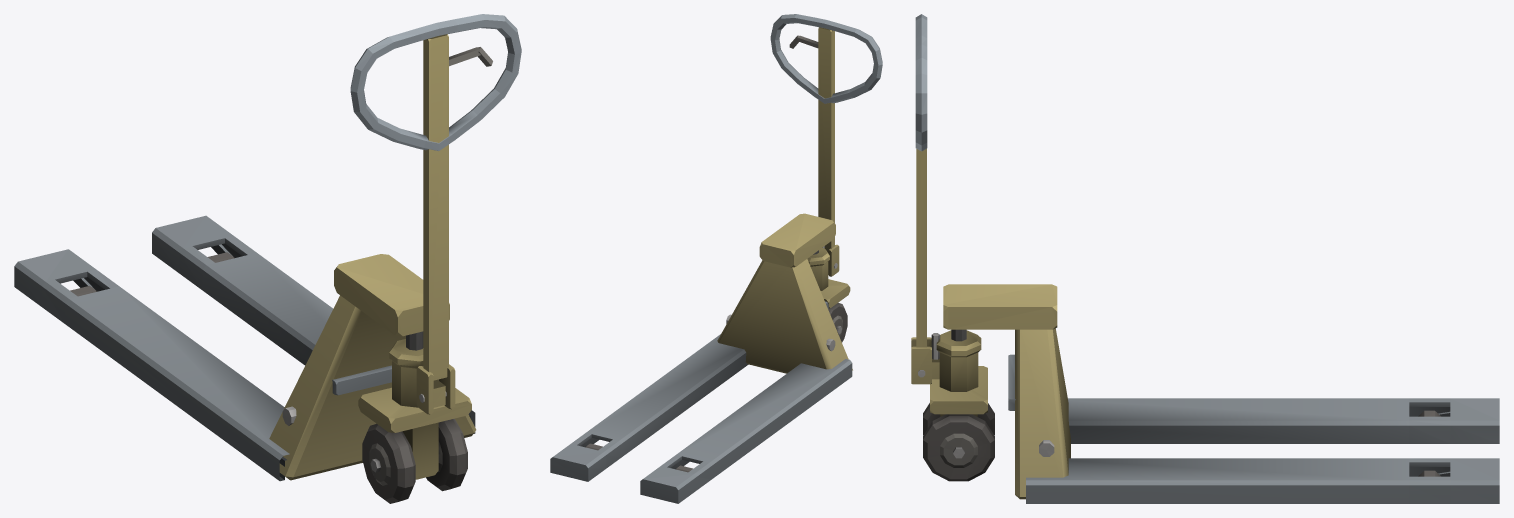
File: jack.glb
3 views of the same model, side by side, from view 1: azimuth 30°, elevation 25°; view 2: azimuth 150°, elevation 25°; view 3: azimuth 270°, elevation 25° (orthographic). The views are drawn at different scales.
Visible parts, largest first — view 1: jack; view 2: jack; view 3: jack.
Boxes of the visible parts, left/top/right/bottom form: jack: left=14, top=14, right=521, bottom=503; jack: left=550, top=14, right=882, bottom=503; jack: left=911, top=14, right=1499, bottom=503.
Size of the model in its own units: 0.54 by 1.28 by 1.58.
